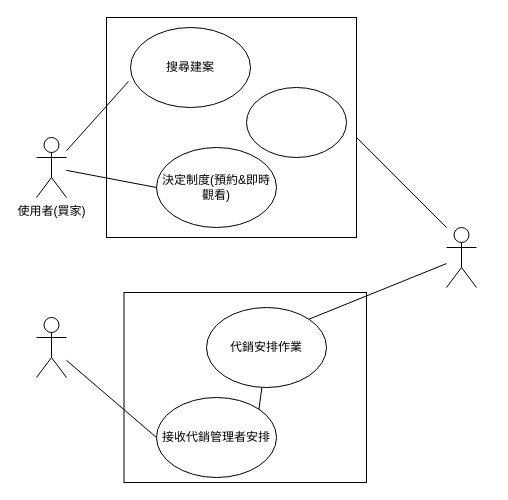
Some shapes in this 508 by 500 pixel diagram are drawn without their labels. The shapes that lost their labels are listed below. From the top down, each one's centre as x and y in pixels, then its label:
At (296,122): "填寫基本資料".
At (461,257): "代銷管理者".
At (51,347): "代銷".
